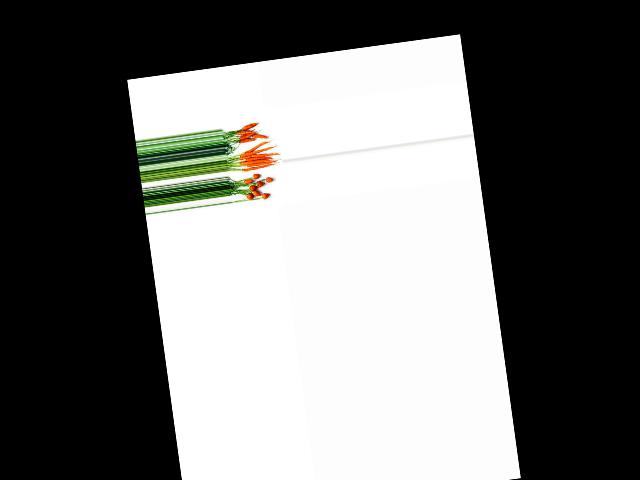carrot: (261, 190, 272, 199)
